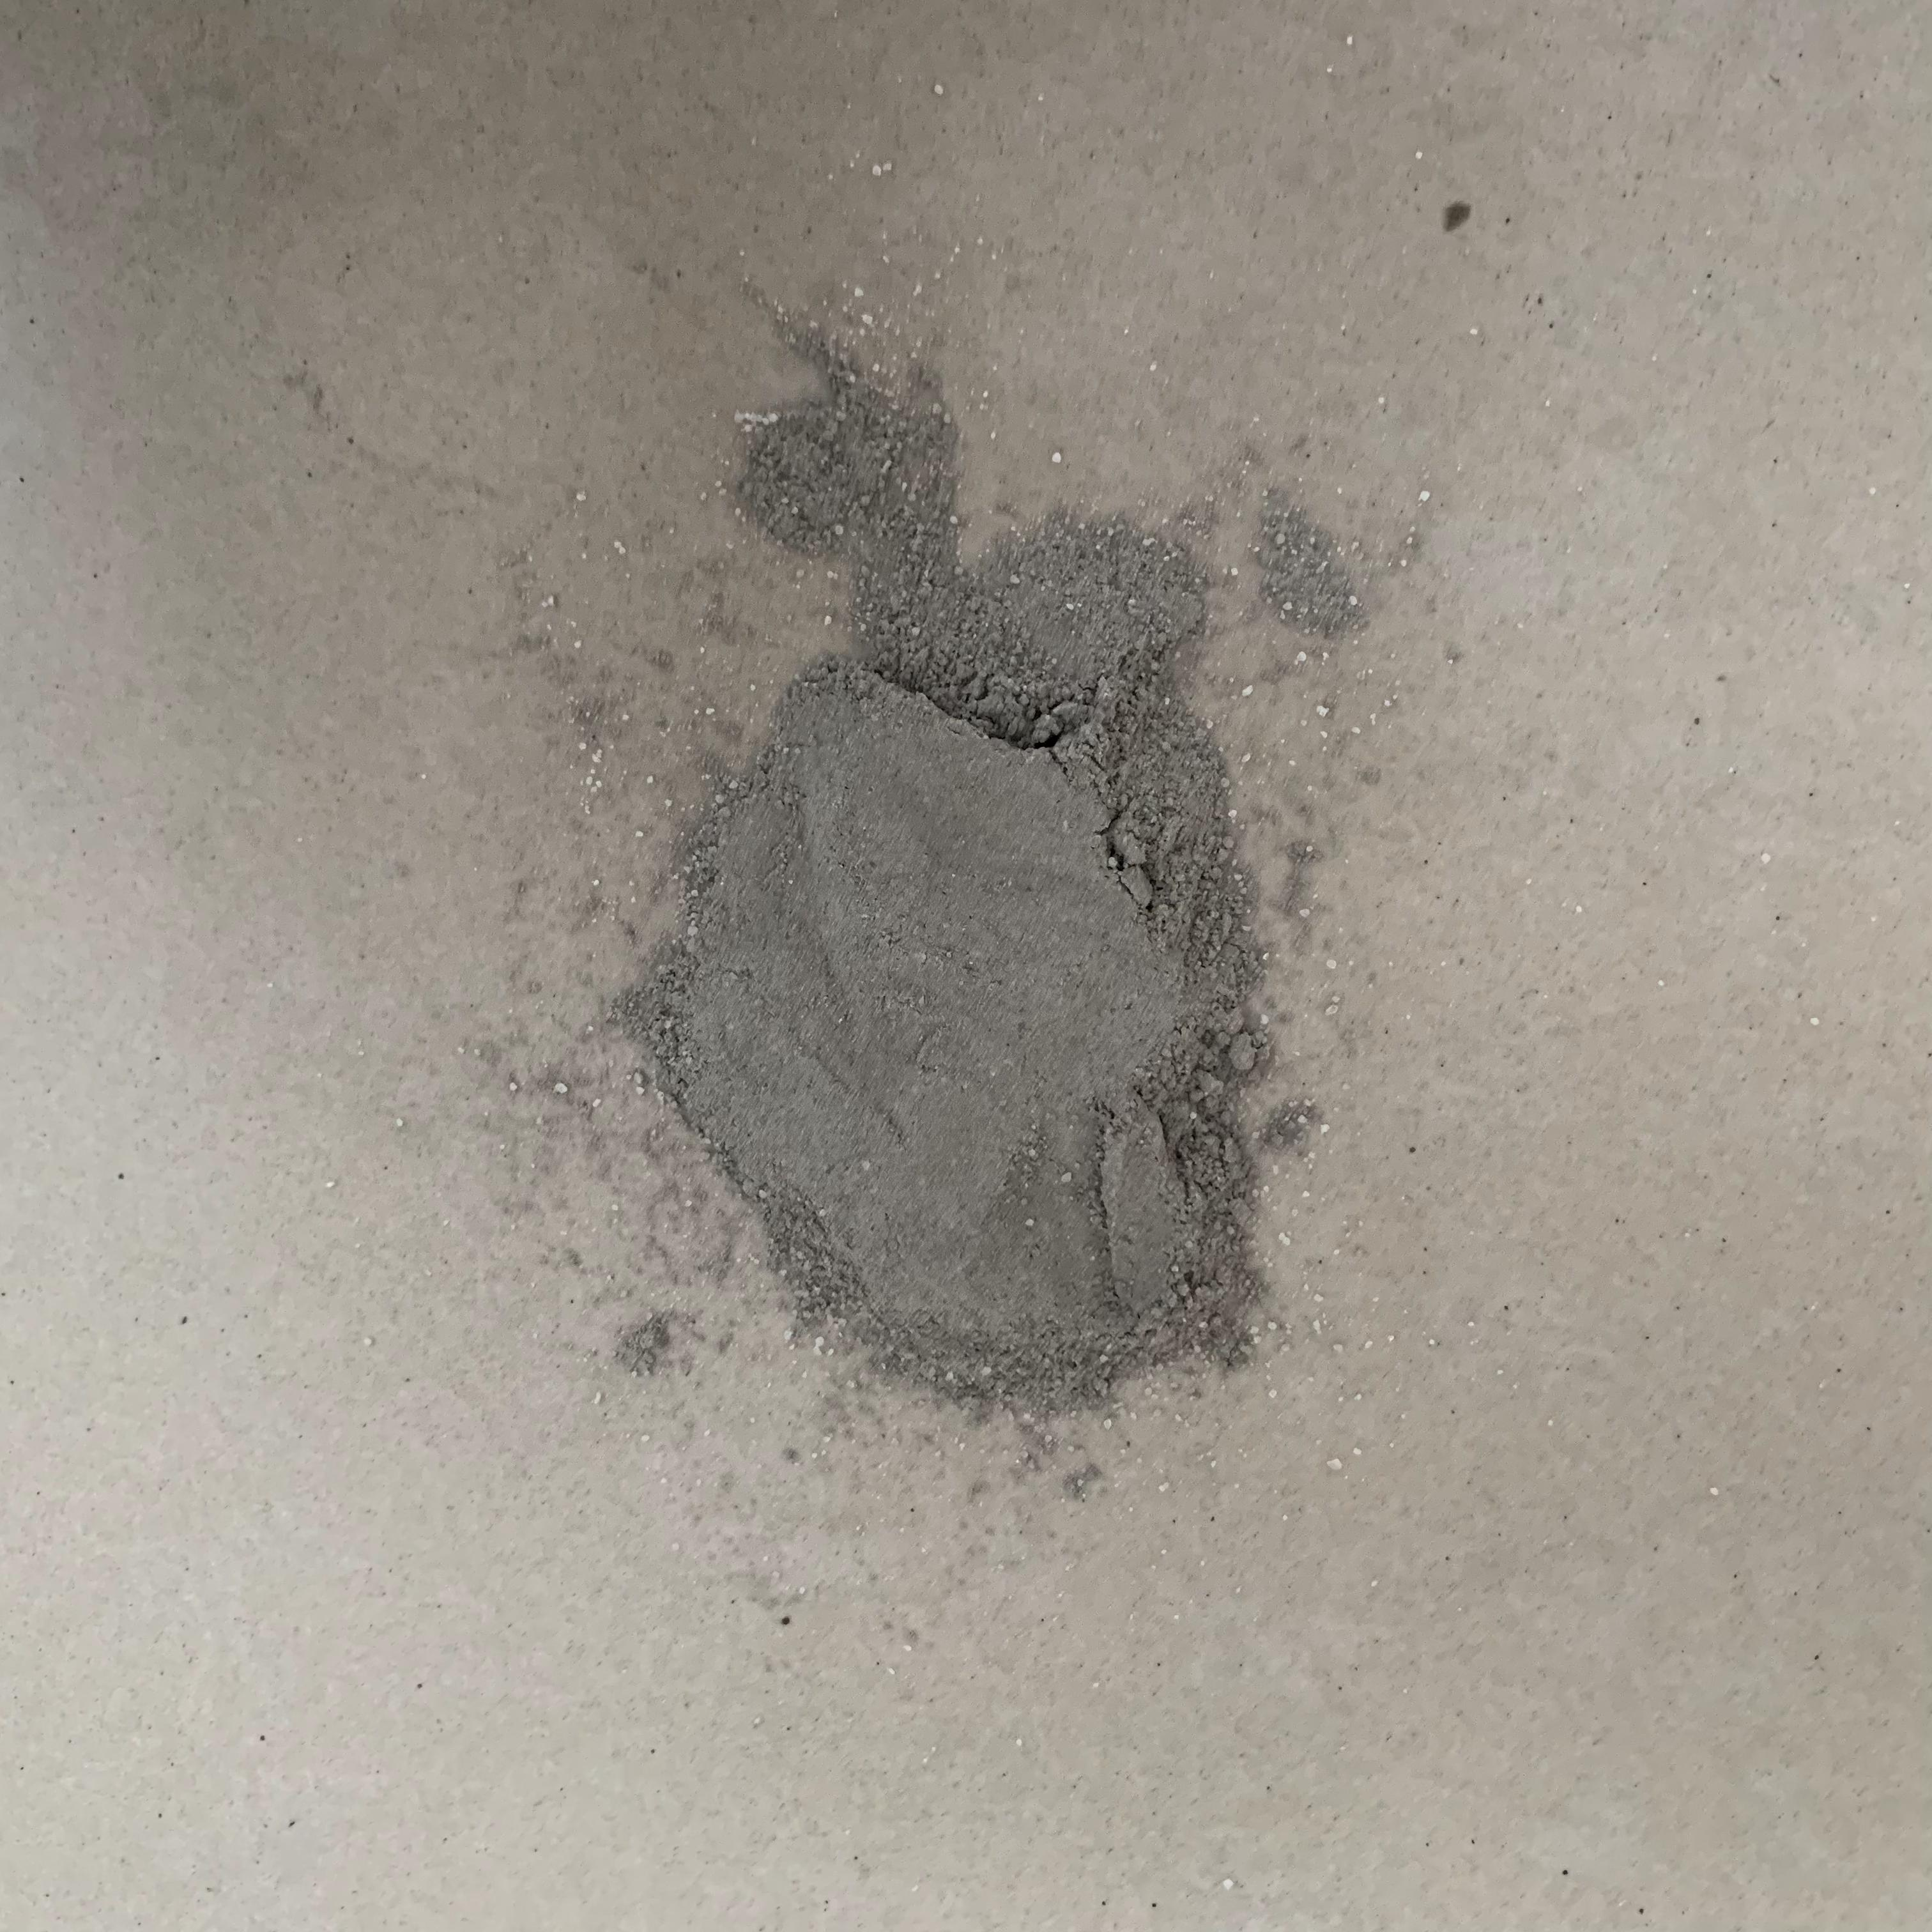ash pile: (453, 260, 1440, 1663)
grey spot: (1440, 200, 1472, 232)
